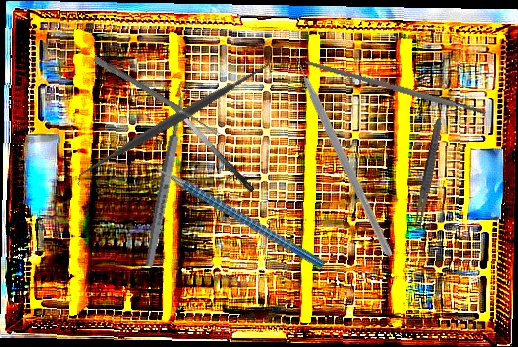Chopper: (226, 35, 465, 258), (126, 109, 328, 321)
Dressing Forceps: (412, 117, 445, 230)
Scalpel Handle: (303, 58, 487, 118)
Spatula Surgical: (67, 49, 283, 188), (144, 81, 256, 202)
Surgical Spoon: (92, 55, 222, 138), (143, 81, 191, 268)
